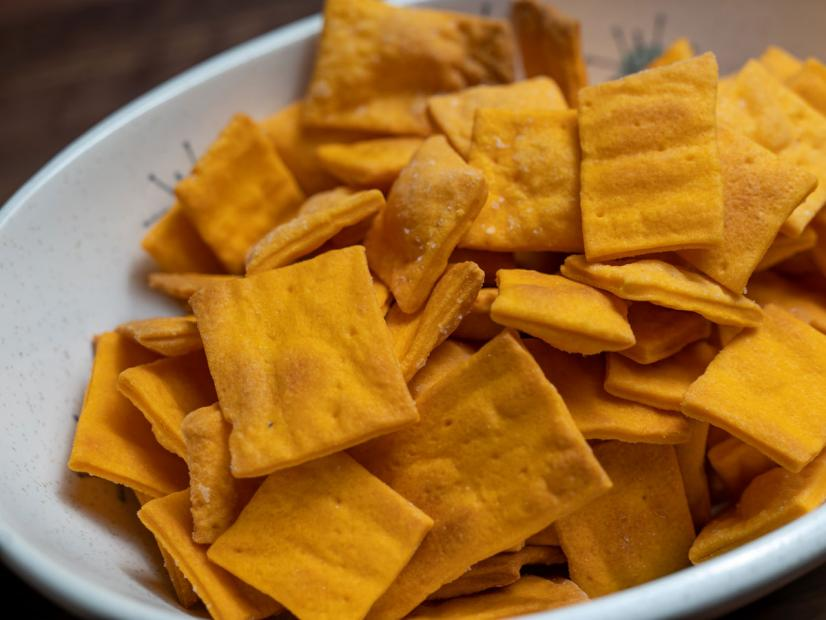cheese: (549, 66, 777, 448), (151, 227, 378, 449), (317, 95, 533, 322)
